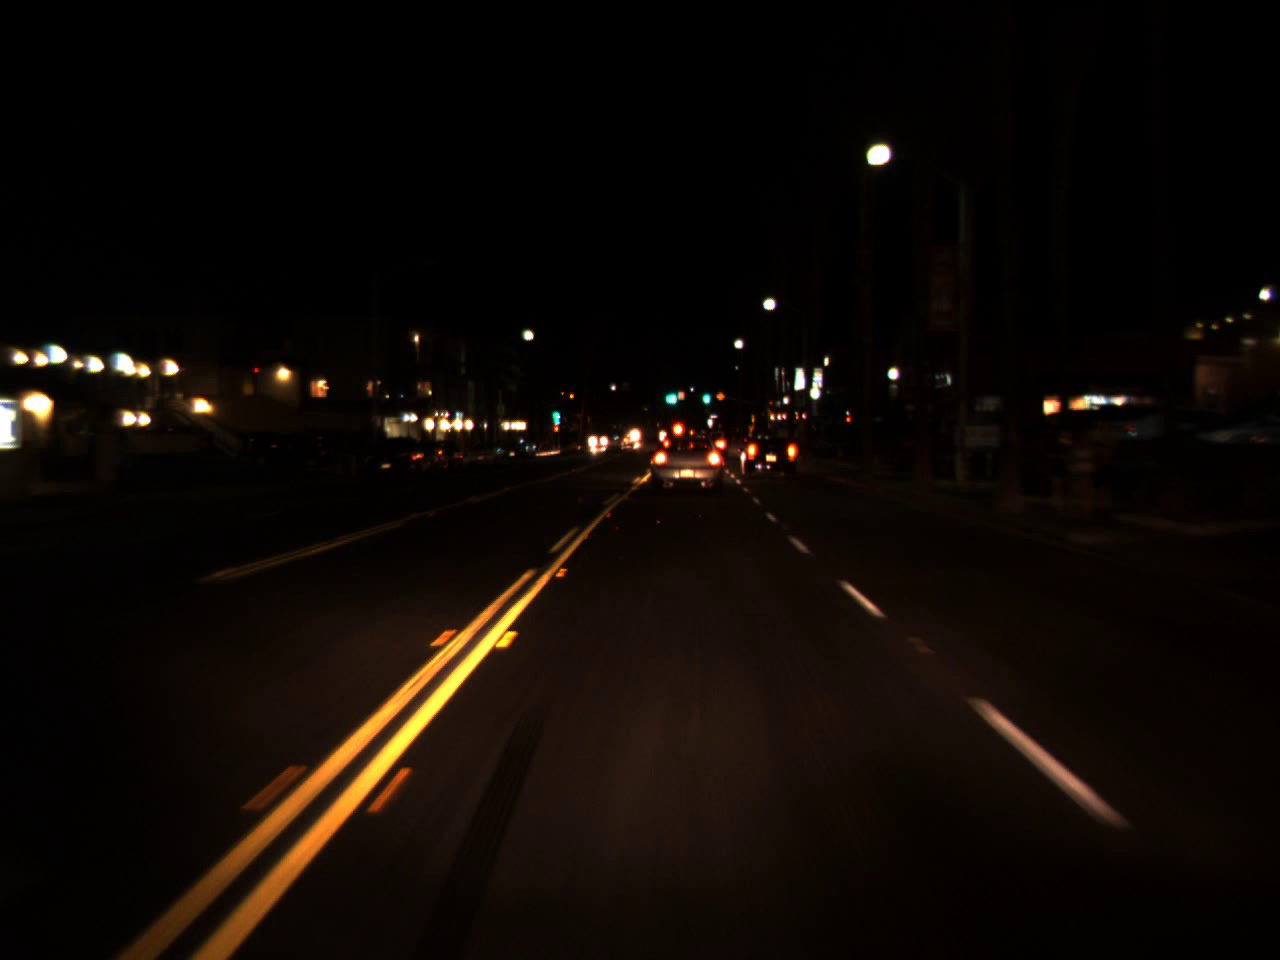go: (660, 383, 679, 407), (550, 396, 560, 429), (701, 388, 711, 403)
